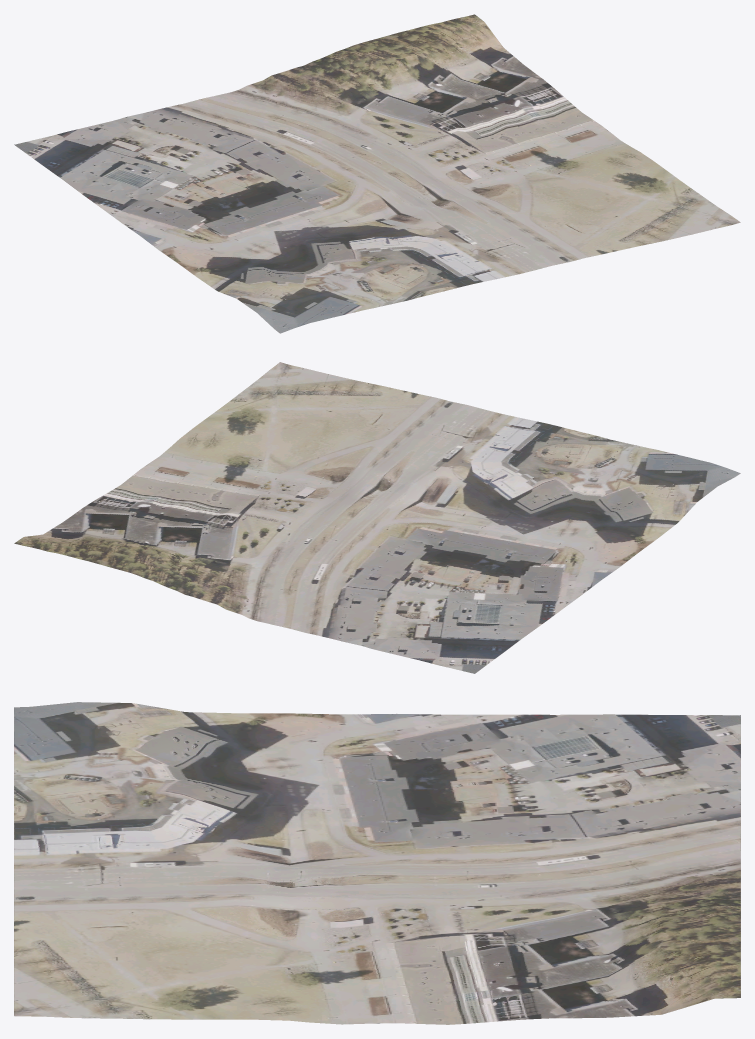
File: CM_Terrain_24492097_6815493.fbx
3 renders of one model, top to bottom at view 1: azimuth 30°, elevation 25°; view 2: azimuth 150°, elevation 25°; view 3: azimuth 270°, elevation 25°, orthographic. The views are drawn at different scales.
Visible parts, largest first — view 1: CM_Terrain_24492097_6815493_LOD0; view 2: CM_Terrain_24492097_6815493_LOD0; view 3: CM_Terrain_24492097_6815493_LOD0.
Boxes of the visible parts, left/top/right/bottom form: CM_Terrain_24492097_6815493_LOD0: left=14, top=14, right=740, bottom=333; CM_Terrain_24492097_6815493_LOD0: left=14, top=362, right=740, bottom=673; CM_Terrain_24492097_6815493_LOD0: left=14, top=702, right=740, bottom=1024.
Size of what is drawn, in the model's own units: 205 by 9.77 by 205.
